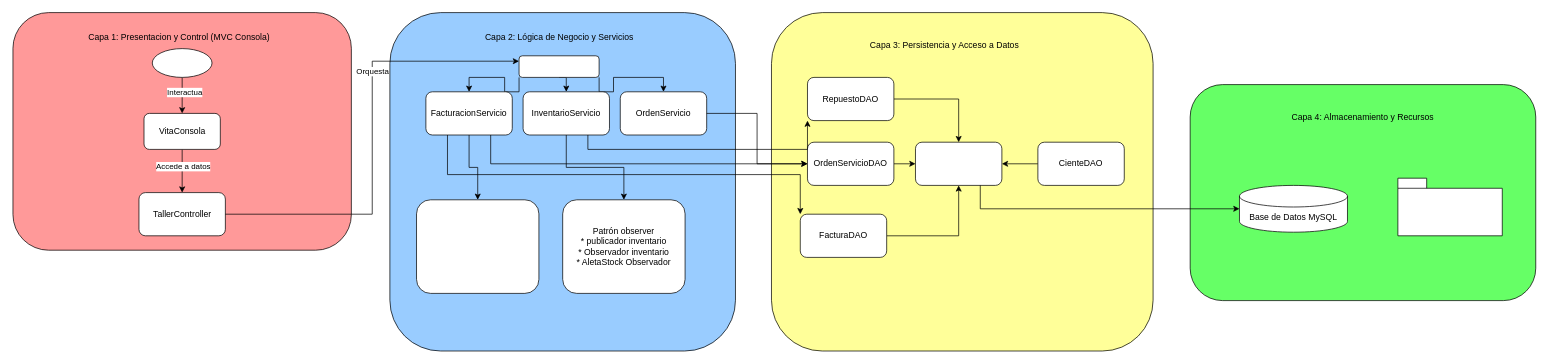
Image size: 1548x364. Some labels were removed from this diagram. Each missing label, with the centre of its shape:
"ConexionFactory Singleton" goes at (x=958, y=163).
"Patrón Strategy * politicaImpuesto * Impuesto iva 19% * AImpuesto exento 0%" goes at (x=477, y=246).
"Sitema de Archivos (txt)" goes at (x=1449, y=206).
"TallerFacade" goes at (x=558, y=66).
"Usuario" goes at (x=182, y=62).
